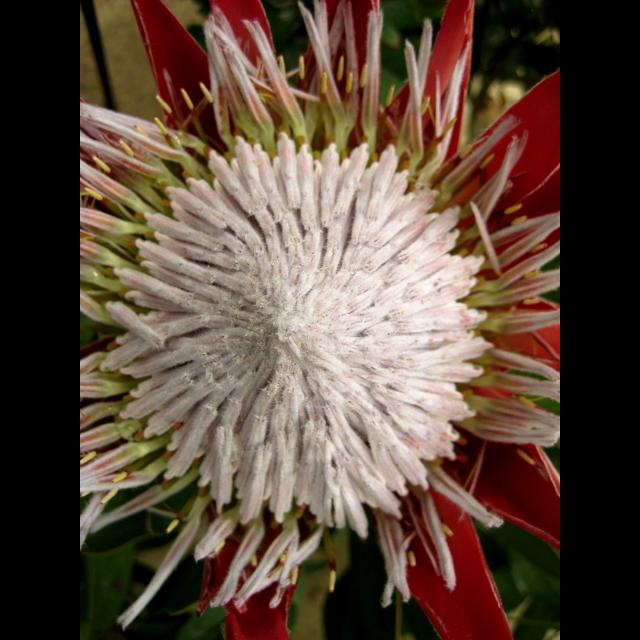Flower: (100, 68, 483, 600)
